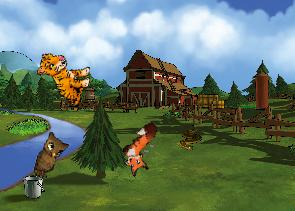fox: (112, 119, 173, 180)
owl: (32, 130, 71, 182)
tiger: (31, 49, 95, 107)
